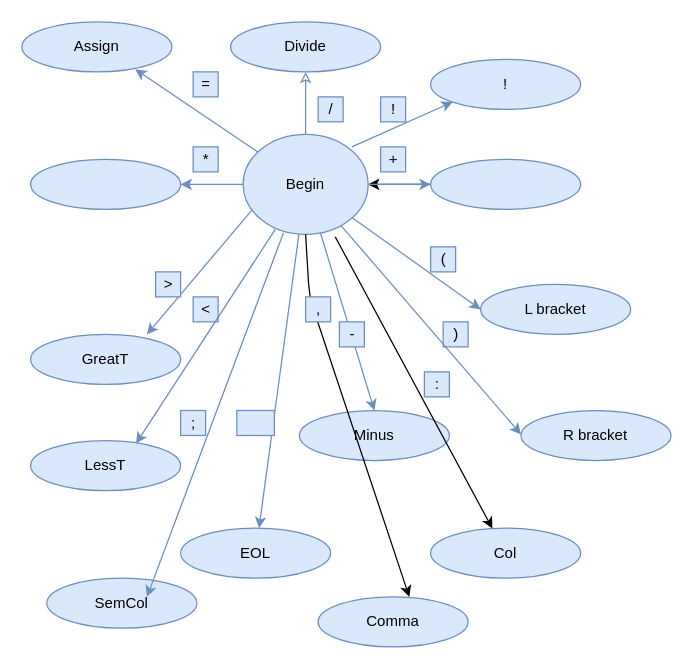
The diagram is 694 pixels wide and 669 high, and some of its shapes have lost their labels. The box of each missing label's shape, as (x1, y1, x2, y2) in pixels:
\n: (236, 409, 274, 436)
Multiply: (29, 158, 181, 209)
Plus: (429, 158, 581, 209)
